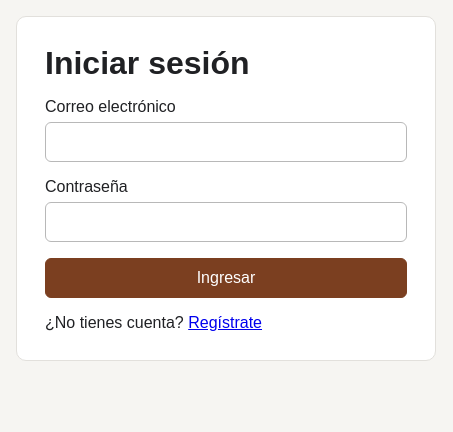
Login (validación del formulario) › muestra el mensaje de error cuando el login es rechazado
Type "admin@sonidovivo.cl" into the field labelled "Correo electrónico" at {"x": 226, "y": 142}, box [45,122,407,162]
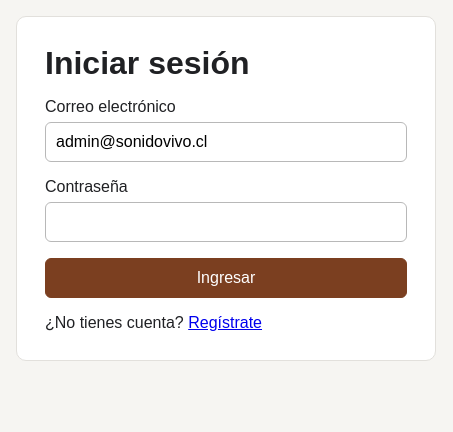
Type "Mala12345" into the password field labelled "Contraseña" at {"x": 226, "y": 222}, box [45,202,407,242]
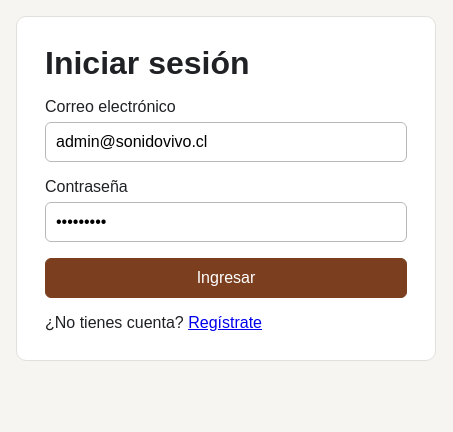
Submit the form
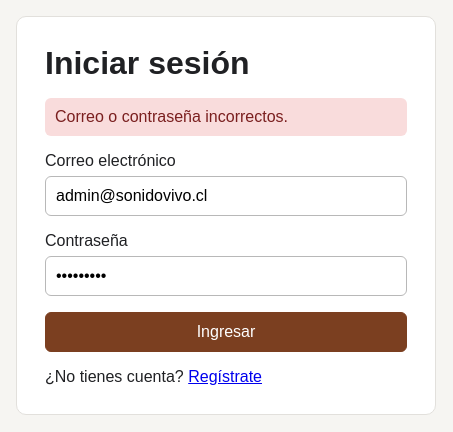
expect the message reads "Correo o contraseña incorrectos.": met, box [55,108,288,125]
